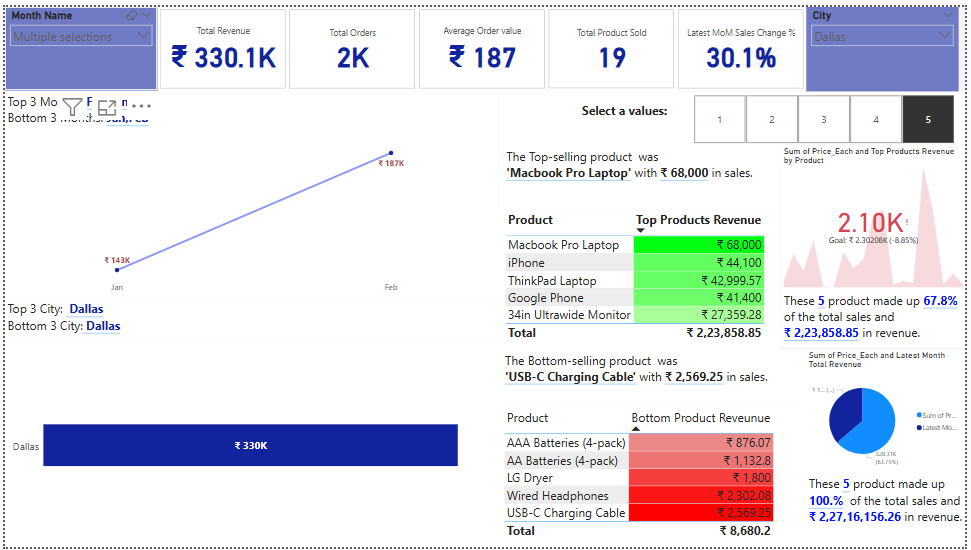

What the dashboard file says about the page in this screenshot:
{"tool":"powerbi","page":{"name":"Page 1","canvas":[1920,1081],"ordinal":0},"visuals":[{"type":"cardVisual","fields":{"Data":["_Measures.Total Revenue","_Measures.Total Orders","_Measures.Average Order value","_Measures.Total Product Sold","_Measures.Latest MoM Sales Change %"]},"box":[304.8,0,1298,168.9],"z":0},{"type":"textbox","box":[0,167.1,996.9,93.6],"z":1000},{"type":"lineChart","fields":{"Y":["_Measures.Total Revenue"],"Category":["Calendar.Month Name"]},"box":[0,260.7,996.9,321.3],"z":2000},{"type":"clusteredBarChart","fields":{"Y":["_Measures.Total Revenue"],"Category":["Append1.City"]},"box":[0,666.4,996.9,414.9],"z":3000},{"type":"textbox","box":[0,582,996.9,84.5],"z":4000},{"type":"slicer","fields":{"Values":["Top N Selection.Value"]},"box":[1351.3,168.9,569.1,108.3],"z":5000},{"type":"tableEx","fields":{"Values":["Pseudo prod Table.Product","_Measures.Top Products Revenue"]},"box":[995.1,402.1,556.3,282.7],"z":6000},{"type":"textbox","box":[996.9,277.2,554.5,124.8],"z":7000},{"type":"textbox","box":[1551.4,565.5,369,115.7],"z":8000},{"type":"tableEx","fields":{"Values":["Append1.Product","_Measures.Bottomproductreveunue"]},"box":[991.4,796.8,611.4,284.6],"z":9000},{"type":"textbox","box":[996.9,167.1,358,110.2],"z":10000},{"type":"slicer","fields":{"Values":["Append1.City"]},"box":[1602.8,0,304.8,168.9],"z":11000},{"type":"slicer","fields":{"Values":["Calendar.Month Name"]},"box":[0,0,304.8,167.1],"z":12000},{"type":"textbox","box":[995.1,684.8,607.7,112],"z":13000},{"type":"textbox","box":[1602.8,932.7,317.6,148.7],"z":14000},{"type":"kpi","fields":{"Indicator":["Sum(Append1.Price_Each)"],"TrendLine":["Append1.Product"],"Goal":["_Measures.Top Products Revenue"]},"box":[1551.4,277.2,369,288.2],"z":15000},{"type":"pieChart","fields":{"Y":["Sum(Append1.Price_Each)","_Measures.Latest Month Total Revenue"]},"box":[1602.8,684.8,317.6,247.9],"z":16000}]}

Visuals, with their boxes in screenshot pixels (x1, y1, x2, y2), scaled from the page's 1920x1081 canvas onto the 971x550 screenshot:
cardVisual - _Measures.Total Revenue x _Measures.Total Orders: left=154, top=0, right=811, bottom=86
textbox: left=0, top=85, right=504, bottom=133
lineChart - _Measures.Total Revenue x Calendar.Month Name: left=0, top=133, right=504, bottom=296
clusteredBarChart - _Measures.Total Revenue x Append1.City: left=0, top=339, right=504, bottom=549
textbox: left=0, top=296, right=504, bottom=339
slicer - Top N Selection.Value: left=683, top=86, right=970, bottom=141
tableEx - Pseudo prod Table.Product x _Measures.Top Products Revenue: left=503, top=205, right=785, bottom=348
textbox: left=504, top=141, right=785, bottom=205
textbox: left=785, top=288, right=970, bottom=347
tableEx - Append1.Product x _Measures.Bottomproductreveunue: left=501, top=405, right=811, bottom=549
textbox: left=504, top=85, right=685, bottom=141
slicer - Append1.City: left=811, top=0, right=965, bottom=86
slicer - Calendar.Month Name: left=0, top=0, right=154, bottom=85
textbox: left=503, top=348, right=811, bottom=405
textbox: left=811, top=475, right=970, bottom=549
kpi - Sum(Append1.Price_Each) x Append1.Product: left=785, top=141, right=970, bottom=288
pieChart - Sum(Append1.Price_Each) x _Measures.Latest Month Total Revenue: left=811, top=348, right=970, bottom=475
